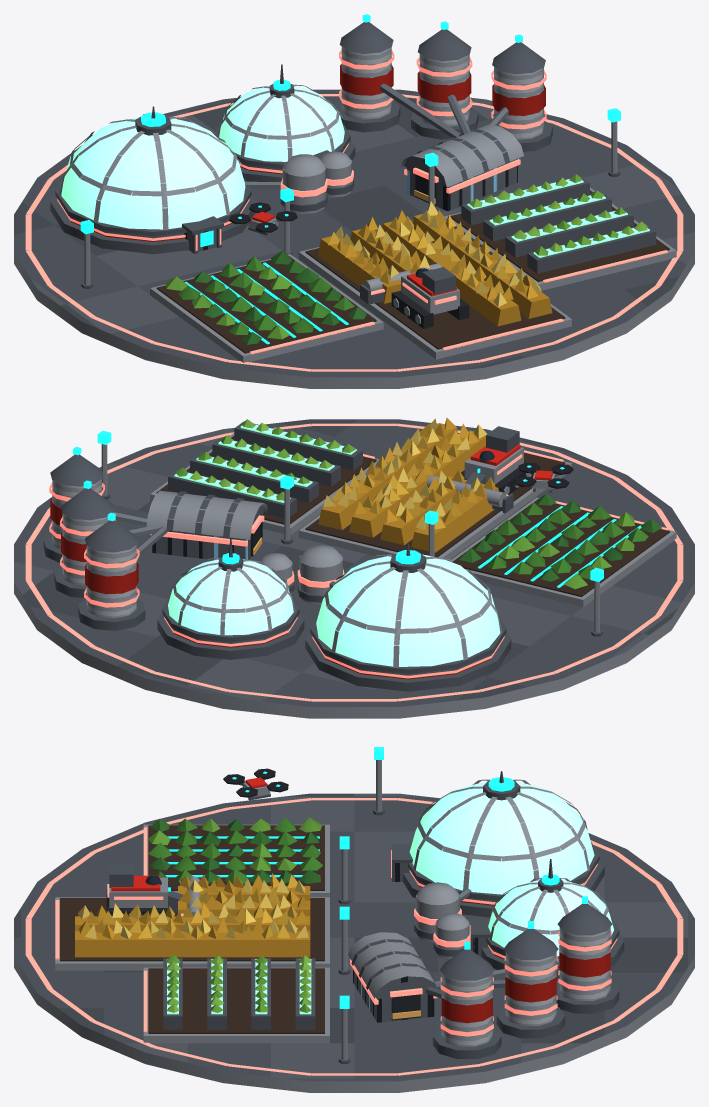
Rendered from farm_scifi_red.glb.
3 renders of one model, top to bottom at view 1: azimuth 30°, elevation 25°; view 2: azimuth 150°, elevation 25°; view 3: azimuth 270°, elevation 25°, orthographic.
Parts seen in each view (by area): view 1: farm_scifi_red; view 2: farm_scifi_red; view 3: farm_scifi_red.
Boxes of the visible parts, box(x1,y1,x2,y2) form: farm_scifi_red: box(14, 14, 694, 388); farm_scifi_red: box(14, 417, 694, 718); farm_scifi_red: box(14, 747, 694, 1092).
Size of the model in its own units: 1.39 by 0.26 by 1.39.
5 materials, 1 textured.
